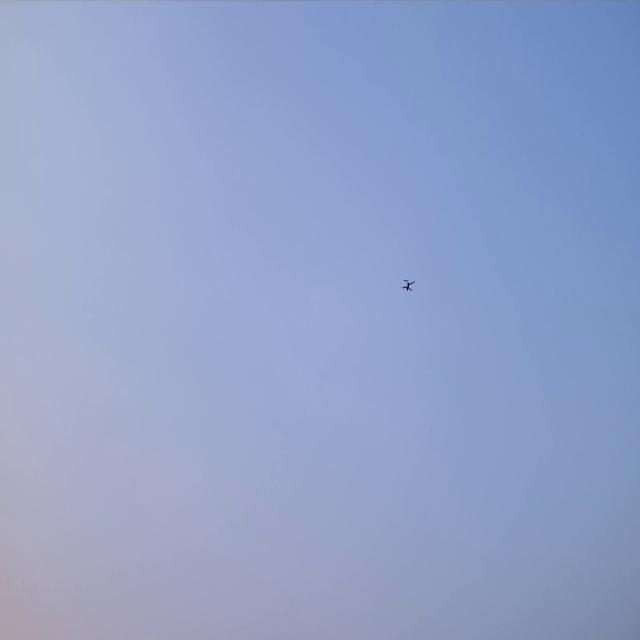UAV: (400, 276, 416, 297)
